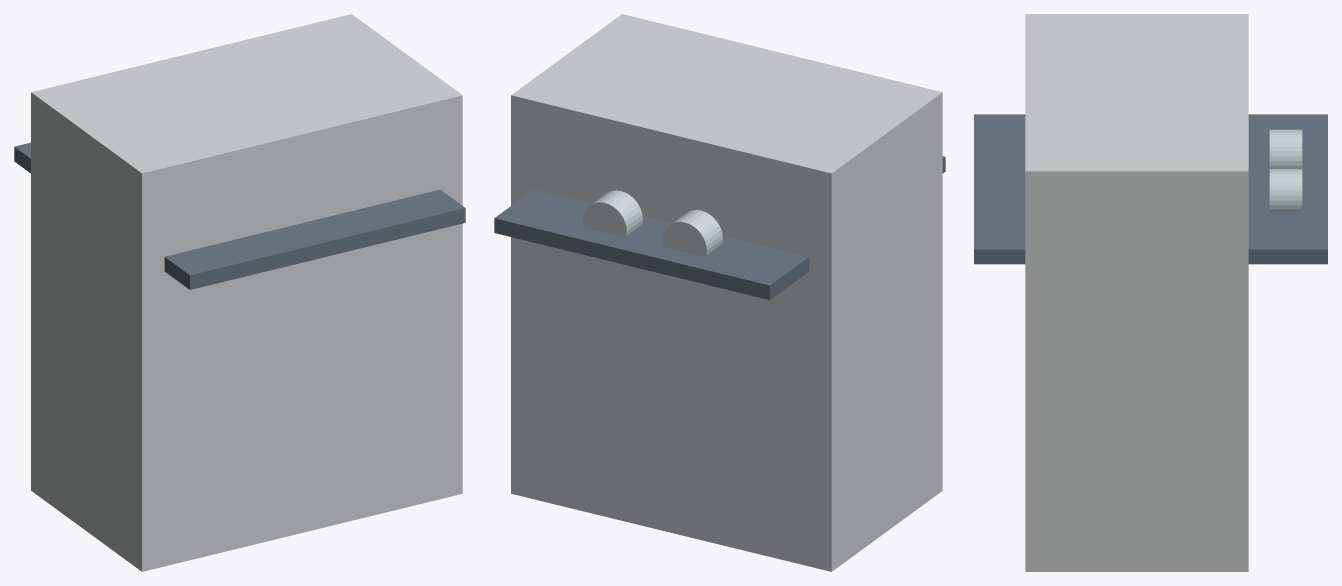
Rendered from psu_single.glb.
3 renders of one model, left to right at view 1: azimuth 30°, elevation 25°; view 2: azimuth 150°, elevation 25°; view 3: azimuth 270°, elevation 25°, orthographic.
Visible parts, largest first — view 1: psu_single_0, psu_single_1; view 2: psu_single_0, psu_single_1, psu_single_5, psu_single_4; view 3: psu_single_0, psu_single_1, psu_single_5, psu_single_4.
Boxes of the visible parts, box(x1,y1,x2,y2) form: psu_single_0: box(31, 14, 462, 571); psu_single_1: box(14, 142, 465, 289); psu_single_0: box(511, 14, 942, 571); psu_single_1: box(494, 156, 945, 299); psu_single_5: box(582, 190, 642, 237); psu_single_4: box(663, 210, 722, 257); psu_single_0: box(1025, 14, 1248, 571); psu_single_1: box(974, 114, 1327, 264); psu_single_5: box(1269, 169, 1302, 211); psu_single_4: box(1269, 129, 1302, 168).
Bounding box in the file's own units: 0.8 × 0.95 × 0.76.
